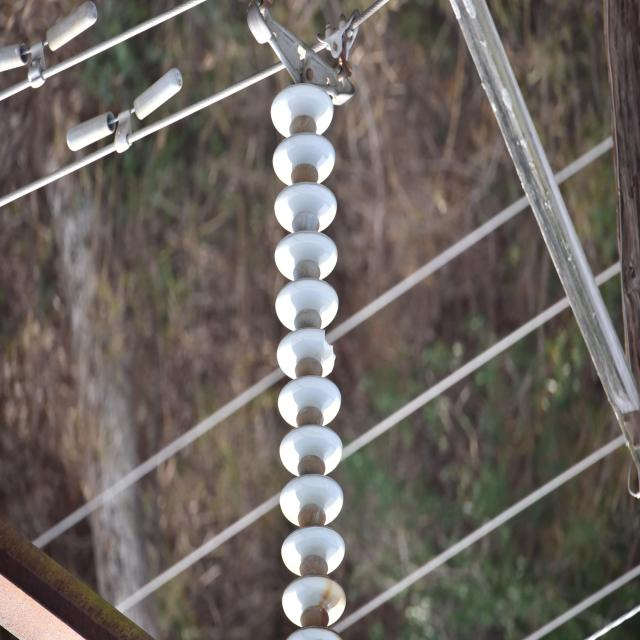broken: (319, 327, 336, 371)
insulator: (268, 80, 348, 640)
